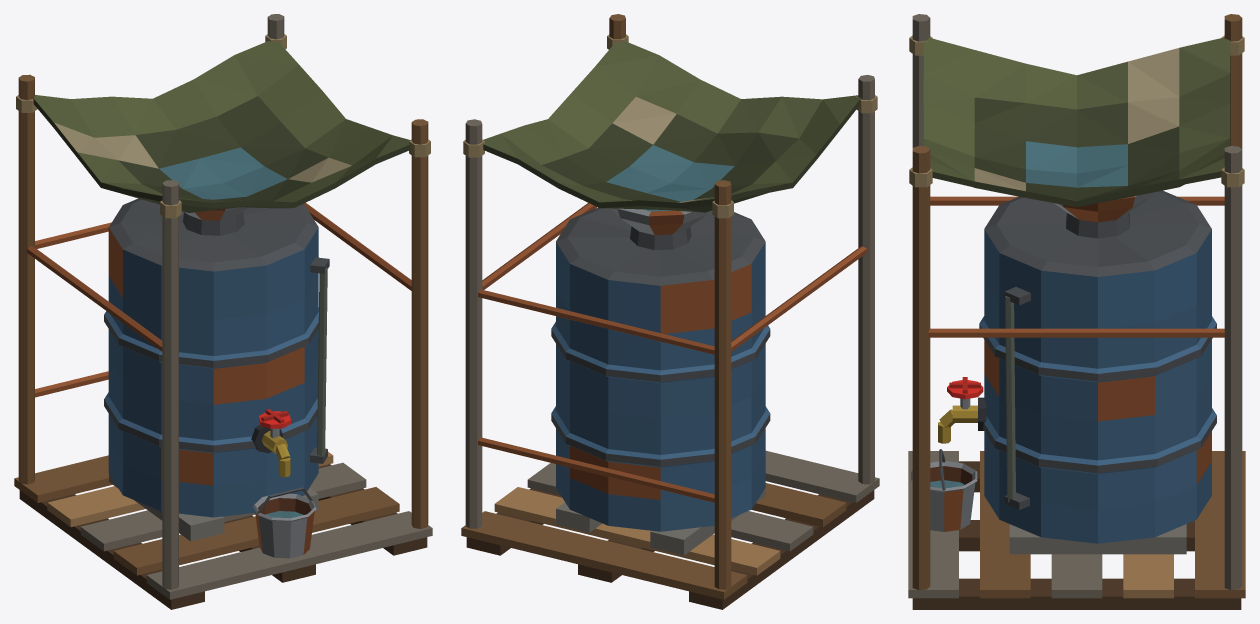
Rendered from piece_water_collector.fbx.
The picture shows the model from 3 angles, left to right: view 1: azimuth 30°, elevation 25°; view 2: azimuth 150°, elevation 25°; view 3: azimuth 270°, elevation 25°; orthographic projection. The views are drawn at different scales.
Visible parts, largest first — view 1: piece_water_collector; view 2: piece_water_collector; view 3: piece_water_collector.
Part boxes in pixels (bbox=[...]): piece_water_collector: bbox=[14, 14, 432, 609]; piece_water_collector: bbox=[461, 14, 879, 609]; piece_water_collector: bbox=[908, 14, 1245, 609].
Bounding box in the file's own units: 0.7885 × 1.2 × 0.8.
